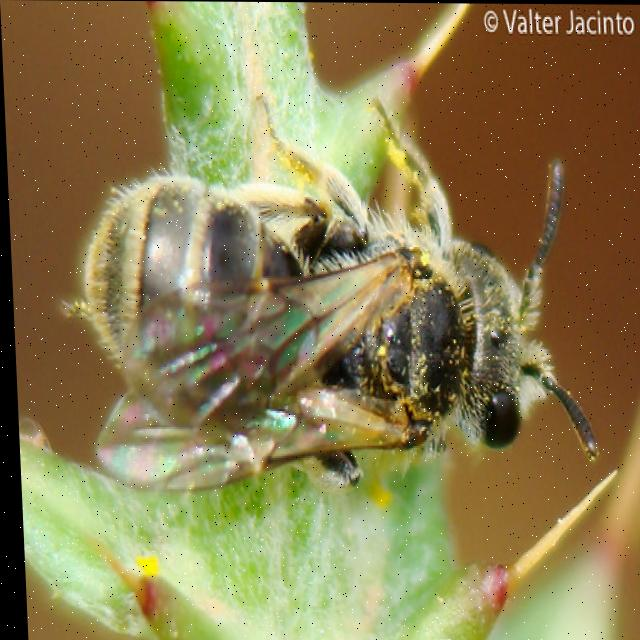Lasioglossum: (54, 77, 606, 530)
